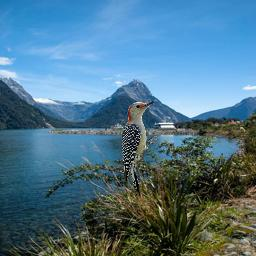Woodpecker: (122, 98, 159, 202)
